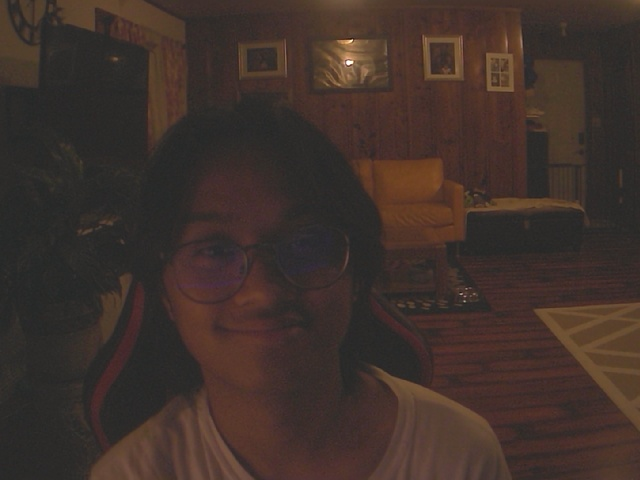happy: (126, 99, 389, 402)
